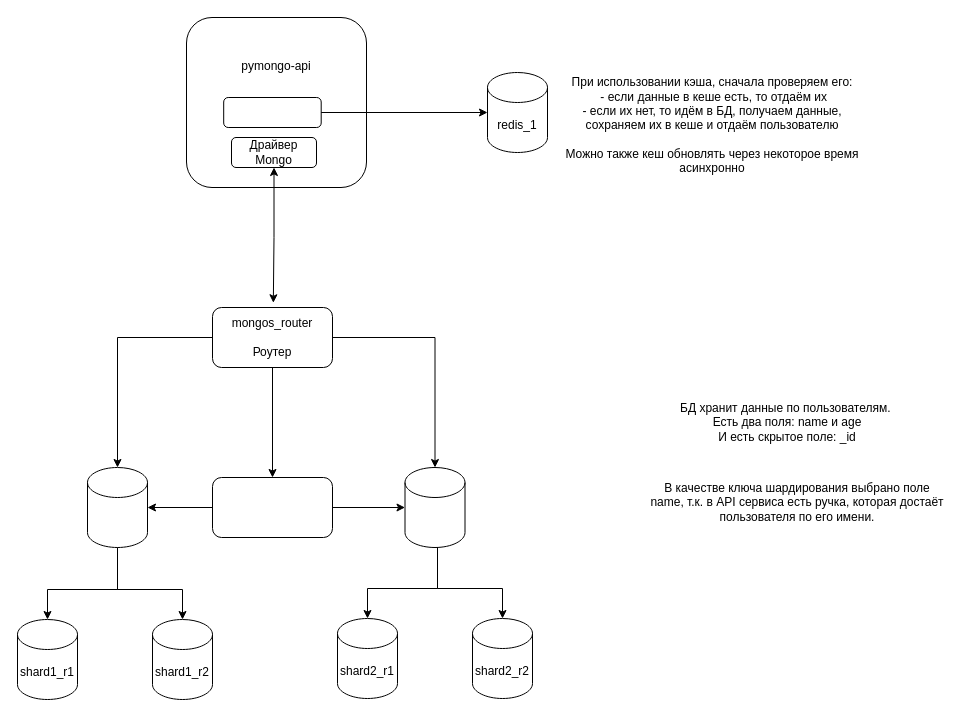
Some shapes in this 965 by 717 pixel diagram are drawn without their labels. The centre of each missing label's shape, as x and y in pixels:
configSrv Конфигурационный сервер: [272,507]
shard1: [117,507]
shard2: [434,507]
Драйвер Redis: [272,112]
